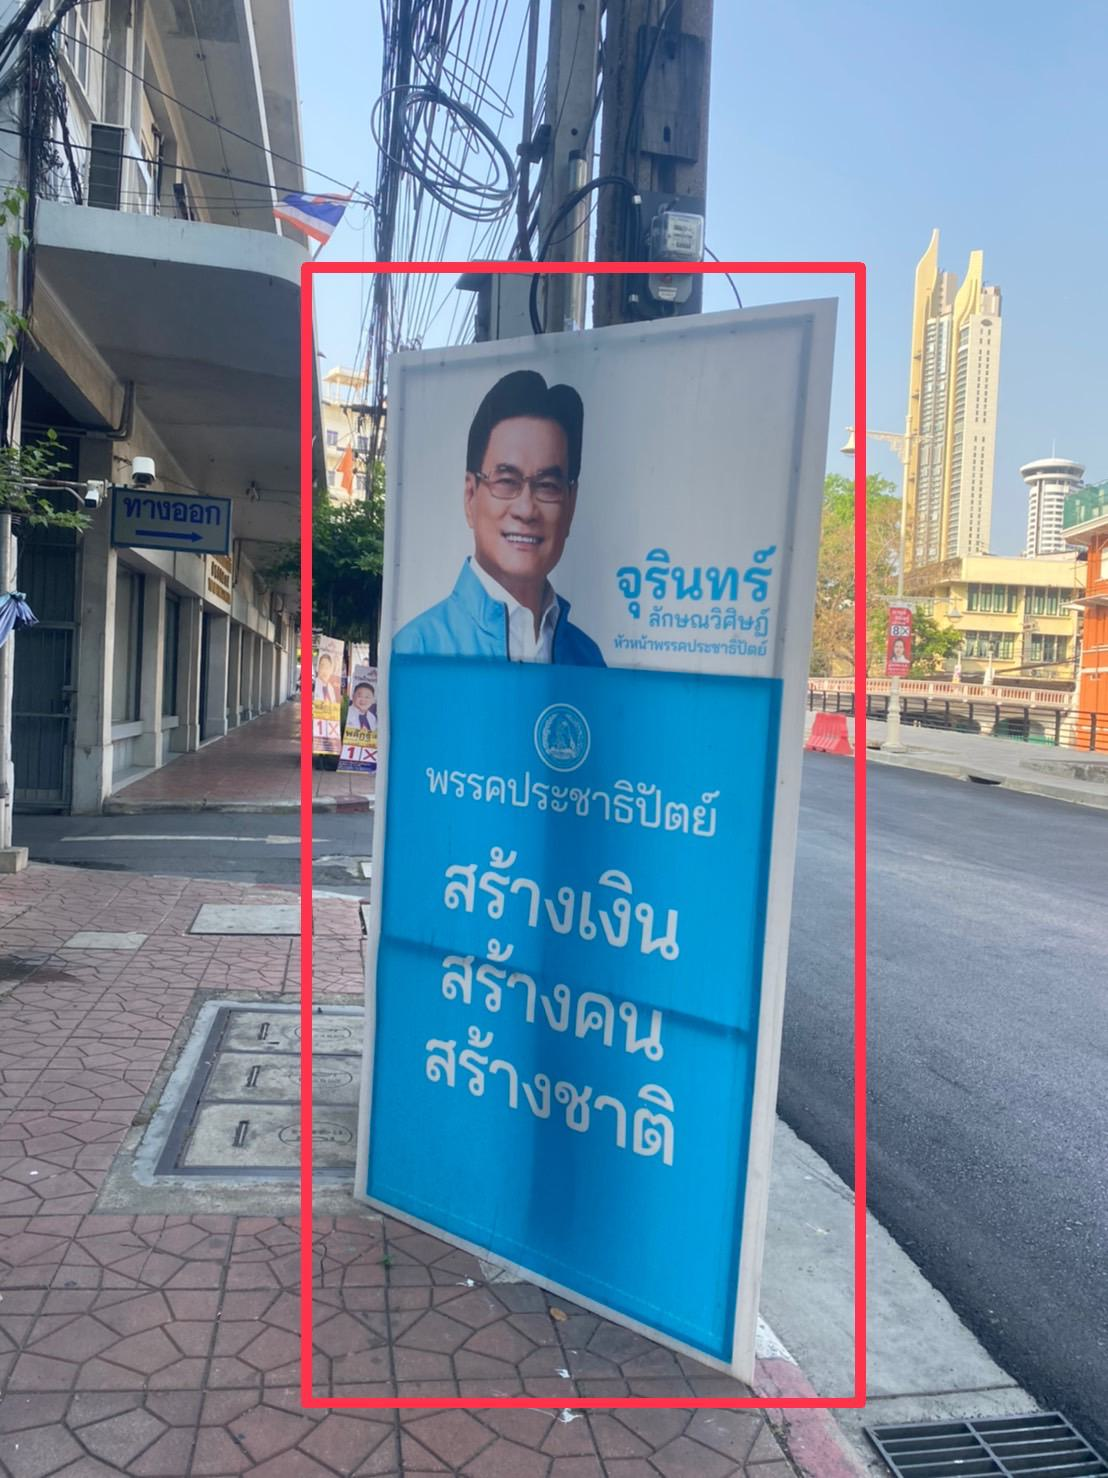Banner: (350, 292, 840, 1377)
